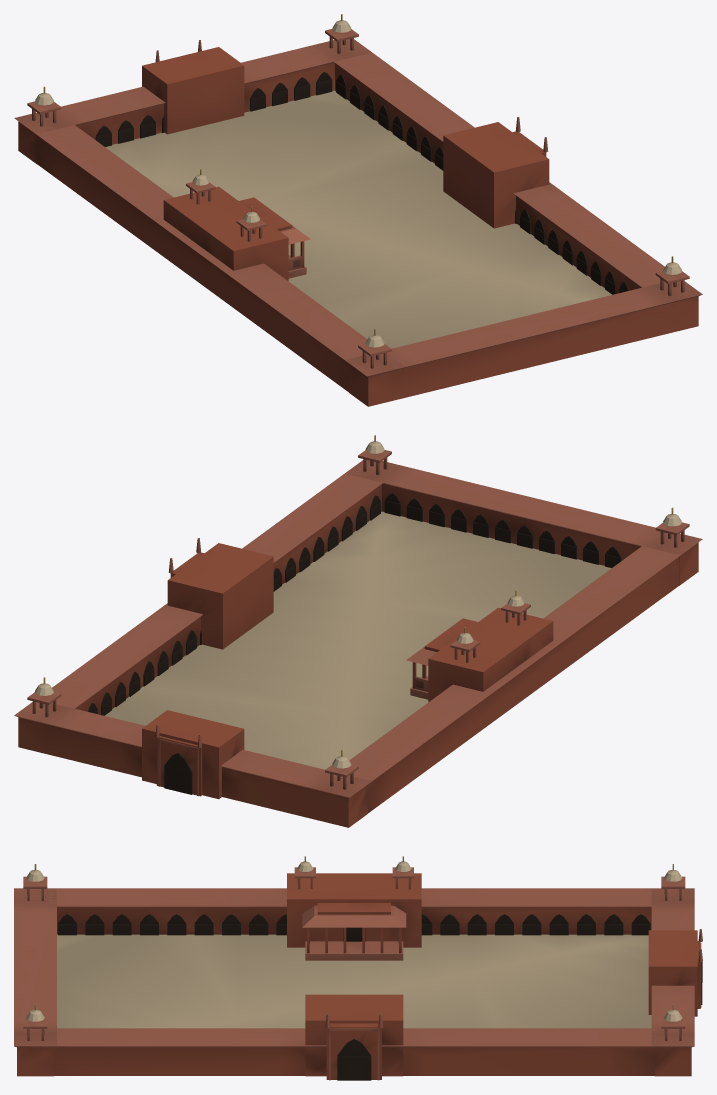
File: diwan-i-am.glb
The picture shows the model from 3 angles, top to bottom: view 1: azimuth 30°, elevation 25°; view 2: azimuth 150°, elevation 25°; view 3: azimuth 270°, elevation 25°; orthographic projection. The views are drawn at different scales.
Parts seen in each view (by area): view 1: p0_cloisters, p1_gates and throne, p2_kiosks; view 2: p0_cloisters, p1_gates and throne, p2_kiosks; view 3: p0_cloisters, p1_gates and throne, p2_kiosks.
Boxes of the visible parts, <box> form: p0_cloisters: <box>14,39,702,406</box>; p1_gates and throne: <box>142,40,549,281</box>; p2_kiosks: <box>27,14,689,368</box>; p0_cloisters: <box>14,460,702,827</box>; p1_gates and throne: <box>142,538,553,799</box>; p2_kiosks: <box>27,435,689,789</box>; p0_cloisters: <box>14,888,694,1076</box>; p1_gates and throne: <box>287,873,702,1080</box>; p2_kiosks: <box>23,856,685,1040</box>.
Bounding box in the file's own units: 62.41 × 14.36 × 112.
